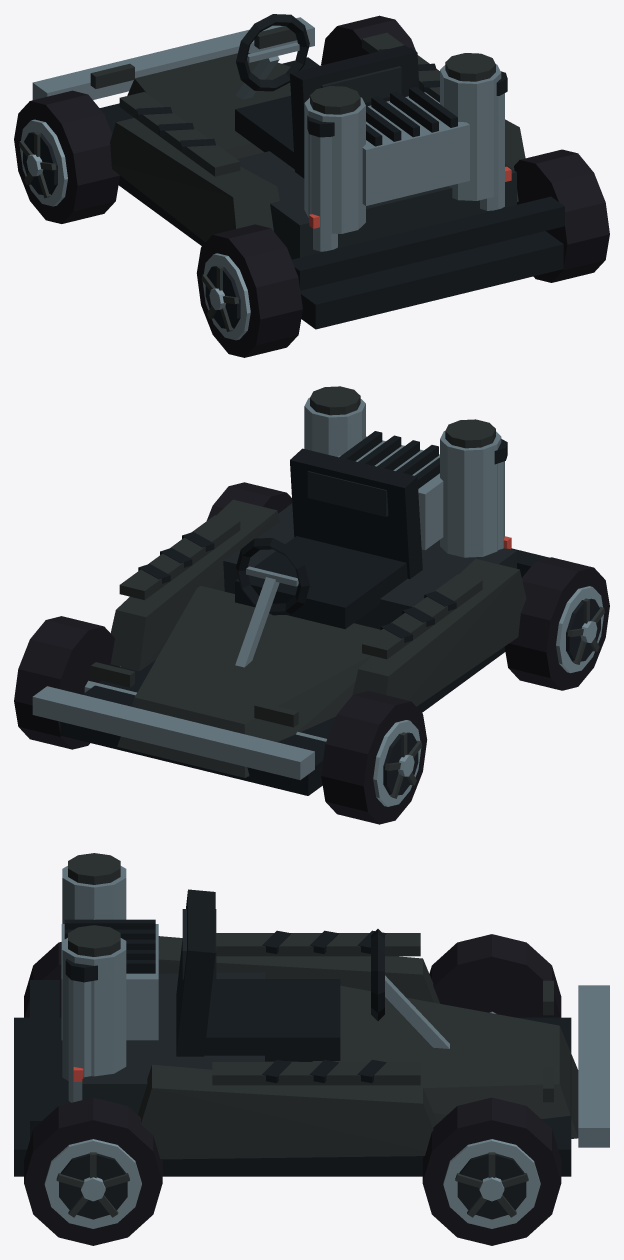
The model's file is kart.glb.
The picture shows the model from 3 angles, top to bottom: view 1: azimuth 30°, elevation 25°; view 2: azimuth 150°, elevation 25°; view 3: azimuth 270°, elevation 25°; orthographic projection. The views are drawn at different scales.
Visible parts, largest first — view 1: chassis, wheel-rear-left, wheel-front-left, wheel-rear-right, wheel-front-right; view 2: chassis, wheel-front-left, wheel-rear-left, wheel-front-right, wheel-rear-right; view 3: chassis, wheel-front-right, wheel-rear-right, wheel-front-left, wheel-rear-left.
Part boxes in pixels (box(x1,y1,x2,y2)): chassis: box(32, 14, 564, 329); wheel-rear-left: box(196, 224, 302, 357); wheel-front-left: box(14, 90, 119, 223); wheel-rear-right: box(514, 149, 609, 282); wheel-front-right: box(321, 15, 415, 65); chassis: box(32, 386, 549, 795); wheel-front-left: box(321, 691, 427, 824); wheel-rear-left: box(504, 557, 609, 690); wheel-front-right: box(14, 616, 119, 749); wheel-rear-right: box(206, 482, 292, 520); chassis: box(14, 853, 609, 1176); wheel-front-right: box(422, 1097, 561, 1245); wheel-rear-right: box(24, 1097, 162, 1245); wheel-front-left: box(429, 934, 561, 1017); wheel-rear-left: box(24, 942, 61, 1017).
Size of the model in its own units: 2.39 by 1.4 by 3.
